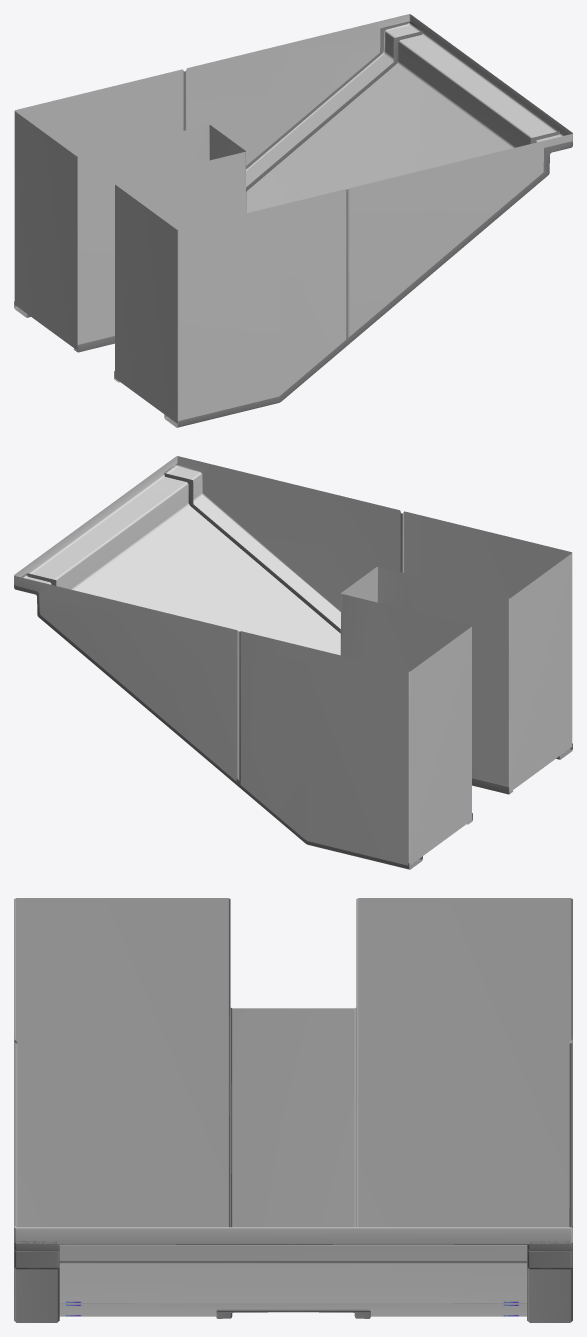
Rendered from Ceiling_01.FBX.
3 renders of one model, top to bottom at view 1: azimuth 30°, elevation 25°; view 2: azimuth 150°, elevation 25°; view 3: azimuth 270°, elevation 25°, orthographic. The views are drawn at different scales.
Parts seen in each view (by area): view 1: Plane003, Shape; view 2: Plane003, Shape; view 3: Plane003, Shape, Object001.
Boxes of the visible parts, left/top/right/bottom form: Plane003: left=14, top=14, right=572, bottom=423; Shape: left=14, top=21, right=572, bottom=427; Plane003: left=14, top=456, right=572, bottom=865; Shape: left=14, top=463, right=572, bottom=869; Plane003: left=14, top=898, right=572, bottom=1316; Shape: left=14, top=1241, right=572, bottom=1322; Object001: left=216, top=1309, right=370, bottom=1318.
Size of the model in its own units: 699 by 334 by 500.
